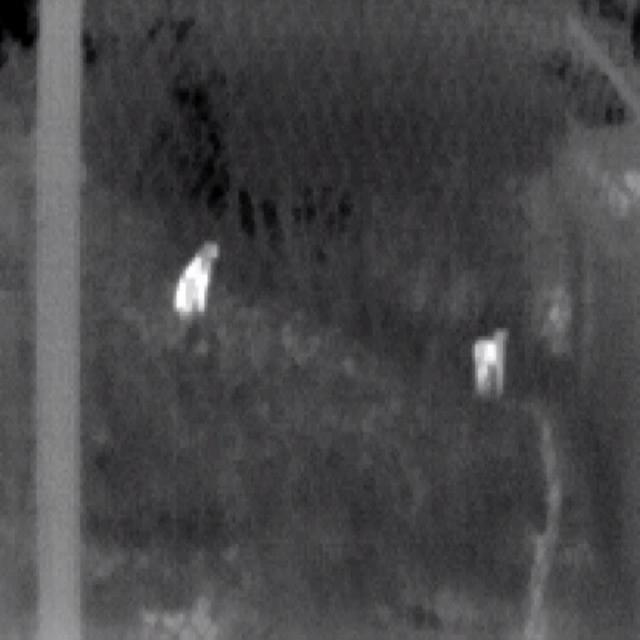cheetah: (175, 244, 219, 312), (475, 329, 508, 395)
